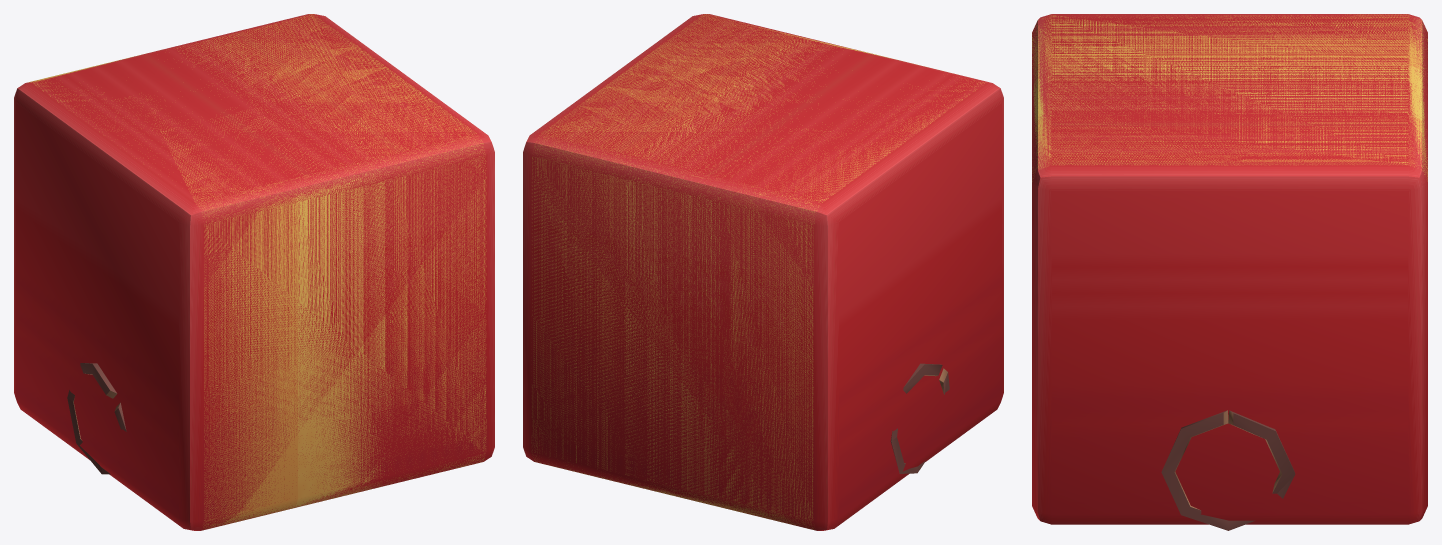
Rendered from props.glb.
The picture shows the model from 3 angles, left to right: view 1: azimuth 30°, elevation 25°; view 2: azimuth 150°, elevation 25°; view 3: azimuth 270°, elevation 25°; orthographic projection. The views are drawn at different scales.
Visible parts, largest first — view 1: colored_block_red, striped_block_yellow, LogOpenDecoration; view 2: colored_block_red, striped_block_yellow, LogOpenDecoration; view 3: colored_block_red, striped_block_yellow, LogOpenDecoration.
Boxes of the visible parts, x1=… form: colored_block_red: x1=14, y1=14, x2=494, y2=530; striped_block_yellow: x1=28, y1=14, x2=486, y2=530; LogOpenDecoration: x1=67, y1=363, x2=126, y2=474; colored_block_red: x1=523, y1=14, x2=1003, y2=530; striped_block_yellow: x1=531, y1=14, x2=984, y2=529; LogOpenDecoration: x1=890, y1=363, x2=949, y2=473; colored_block_red: x1=1032, y1=14, x2=1427, y2=524; striped_block_yellow: x1=1032, y1=14, x2=1427, y2=181; LogOpenDecoration: x1=1161, y1=410, x2=1295, y2=530.
Size of the model in its own units: 2.06 by 2 by 2.
Materials: 11 (11 with a texture image).
